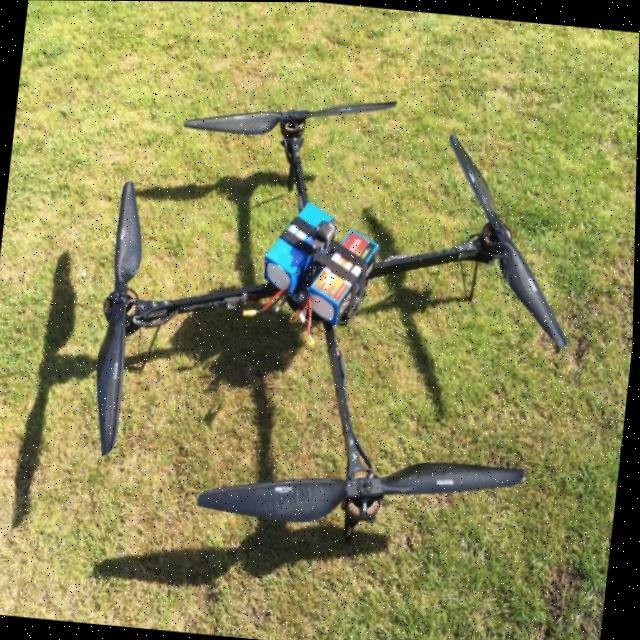drones: (31, 50, 605, 622)
